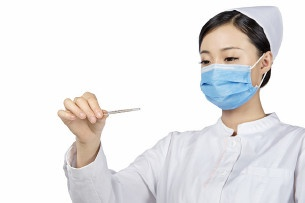Mask: (195, 41, 260, 105)
